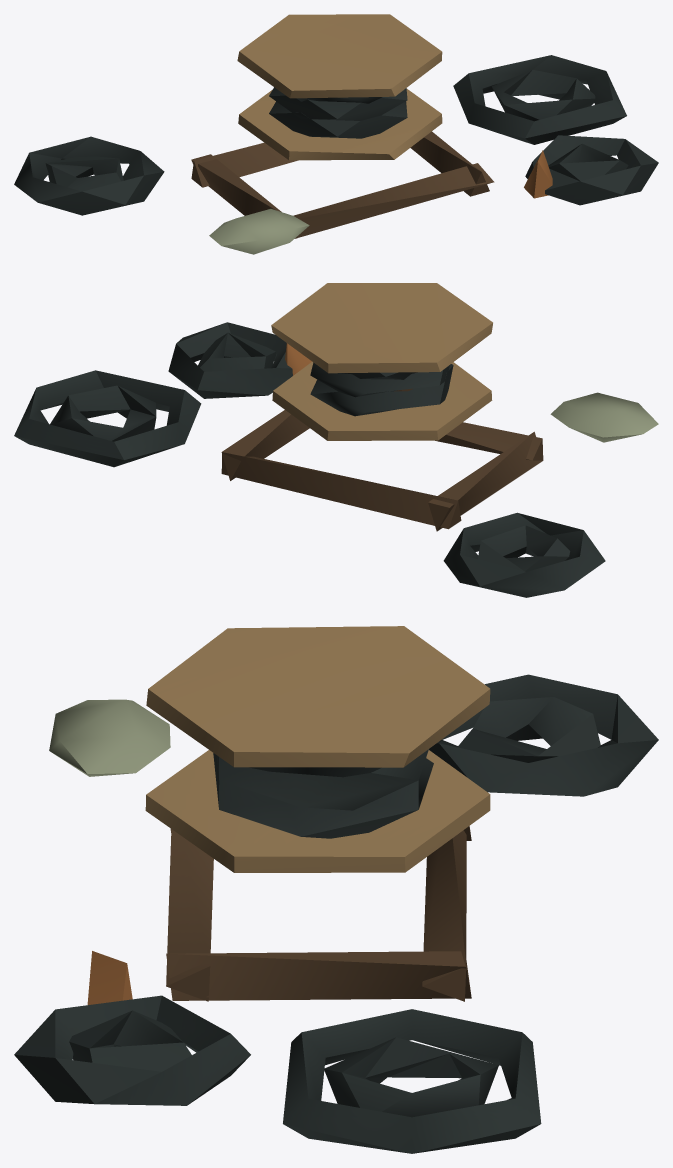
The model's file is hose_reel_b_lod2.glb.
The picture shows the model from 3 angles, top to bottom: view 1: azimuth 30°, elevation 25°; view 2: azimuth 150°, elevation 25°; view 3: azimuth 270°, elevation 25°; orthographic projection. The views are drawn at different scales.
Visible parts, largest first — view 1: Surface.001; view 2: Surface.001; view 3: Surface.001.
Boxes of the visible parts, <box> form: Surface.001: <box>14,14,658,254</box>; Surface.001: <box>14,283,658,597</box>; Surface.001: <box>14,626,658,1153</box>.
Size of the model in its own units: 4.63 by 1.1 by 2.77.
